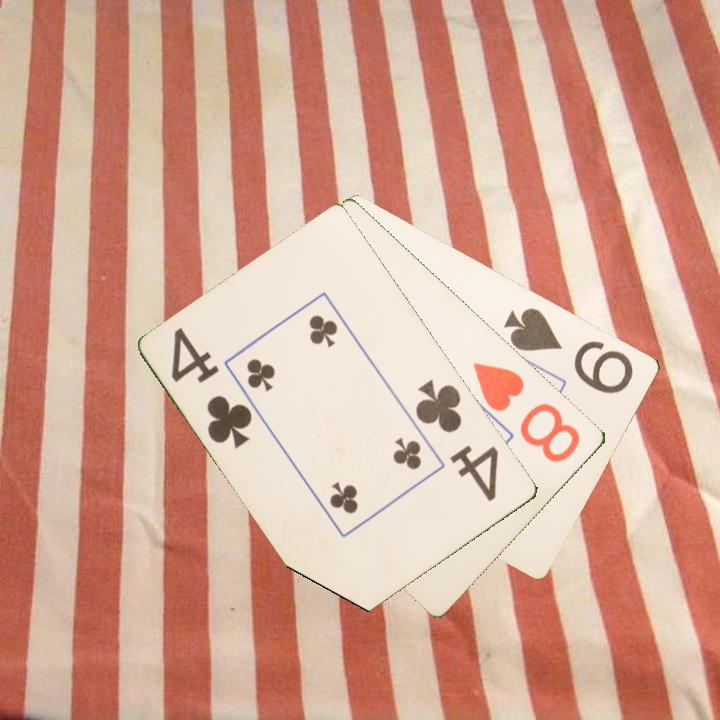4c: (412, 376, 503, 505), (167, 324, 256, 453)
8h: (470, 358, 584, 466)
9s: (500, 304, 637, 397)
